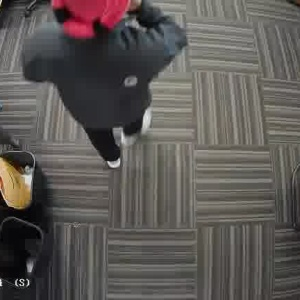person: (38, 0, 161, 159)
